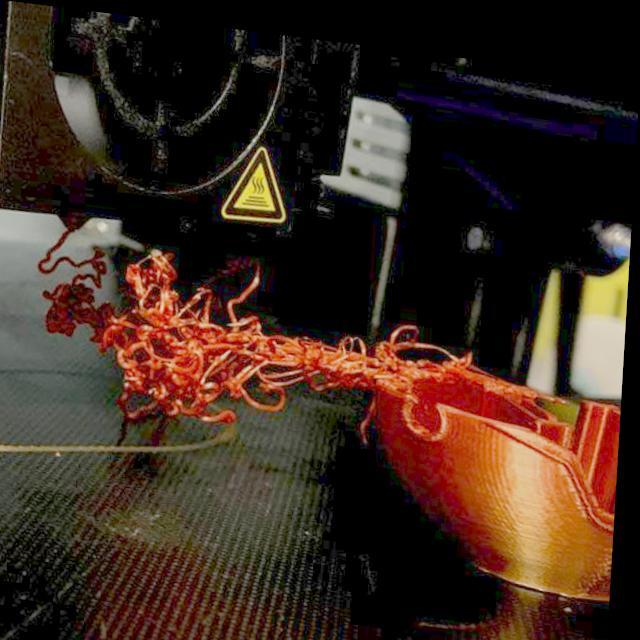spaghetti: (33, 225, 480, 450)
